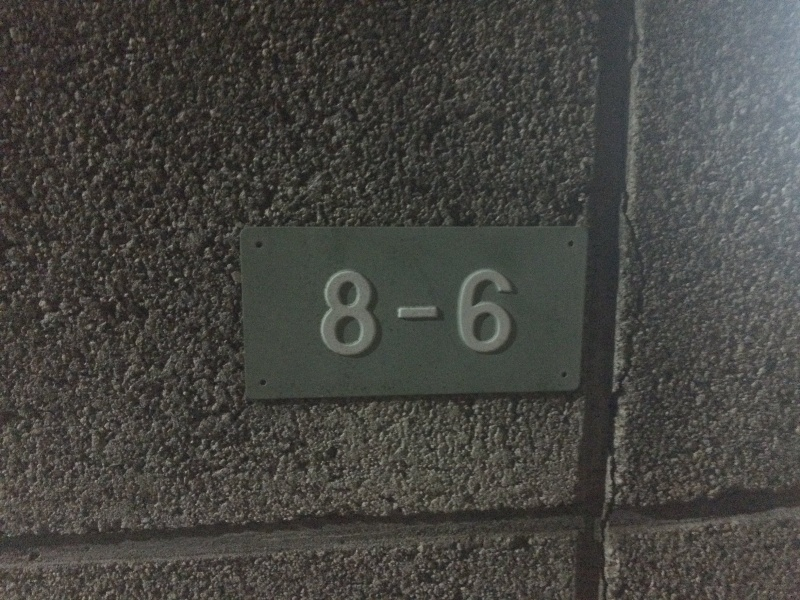text: (337, 267, 352, 360), (353, 267, 368, 360), (369, 267, 384, 360), (385, 267, 400, 360), (401, 267, 416, 360), (417, 267, 432, 360), (433, 267, 448, 360), (449, 267, 464, 360), (465, 267, 480, 360), (481, 267, 496, 360), (497, 267, 512, 360), (325, 267, 336, 360), (513, 267, 518, 360)
